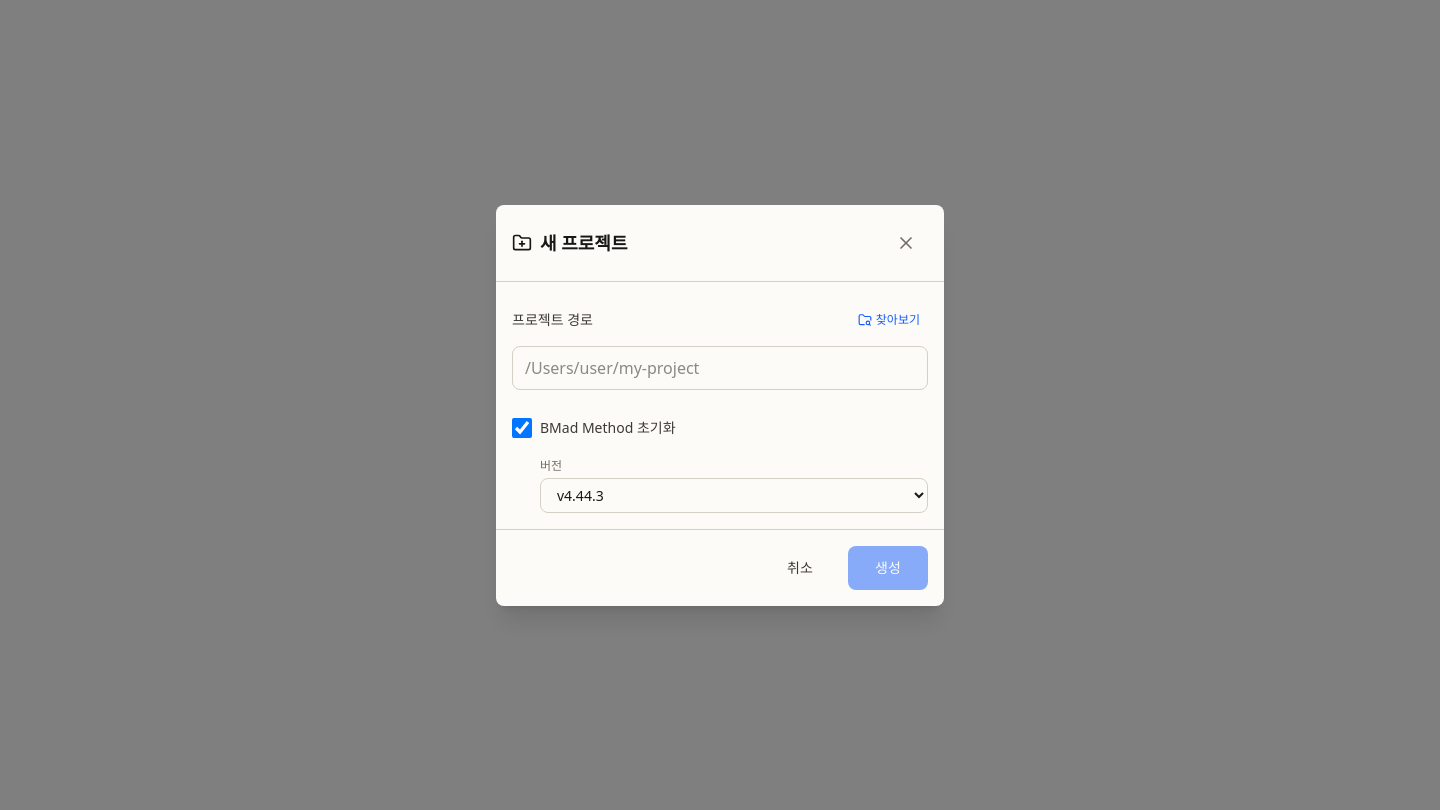
Test case: NewProjectDialog › Directory Browser Integration (Story 34.2) › fills the path input and runs existing validation when a path is selected (AC7)
What coordinates should you click on to do the following:
click the button with aria-label "디렉토리 찾아보기"
I would click on:
 (889, 320)
Its box is [850,298,928,342].
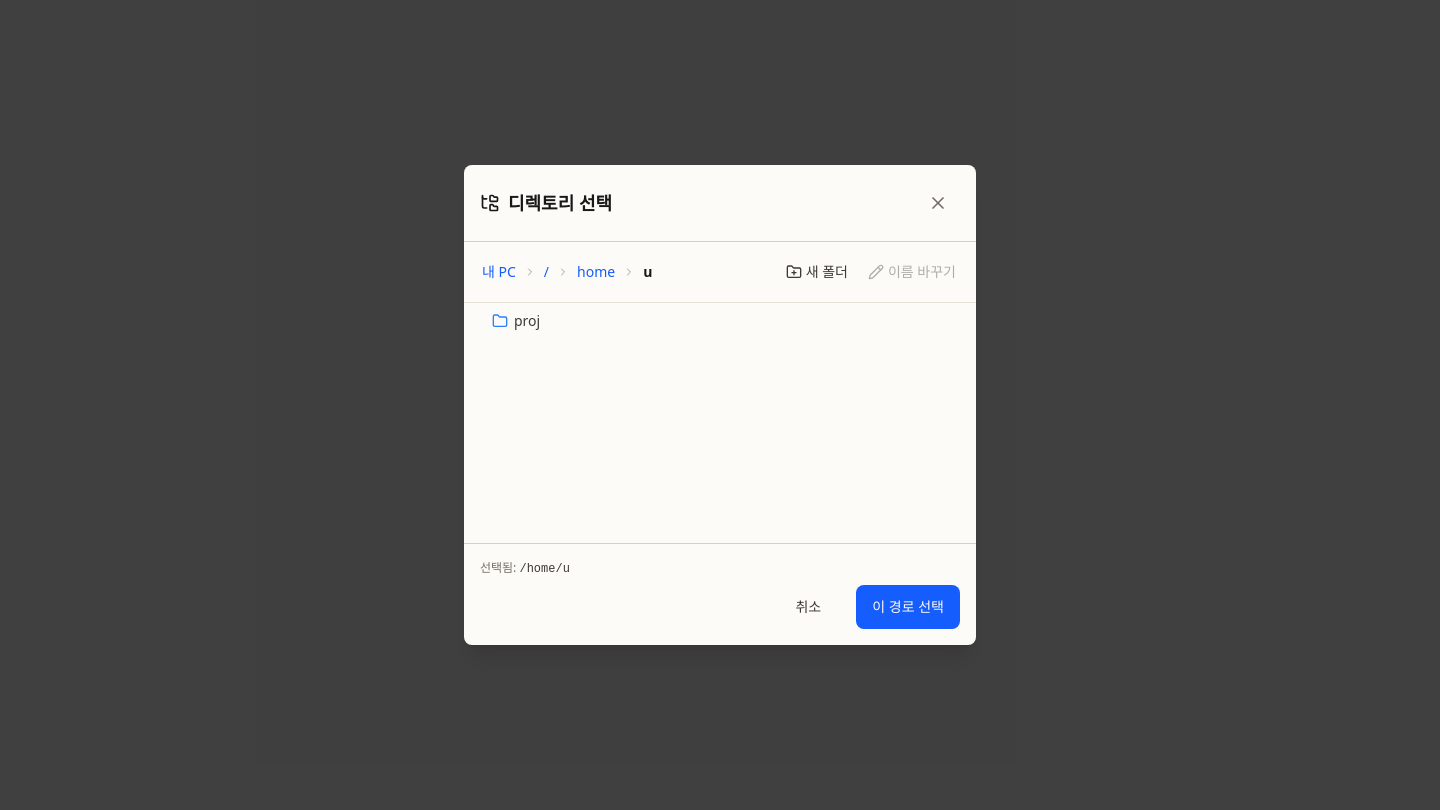
# Pick a folder in the browser tree, then confirm.
What coordinates should you click on to do the following:
click the text "proj"
I would click on:
 (527, 321)
Its box is [514,311,540,331].
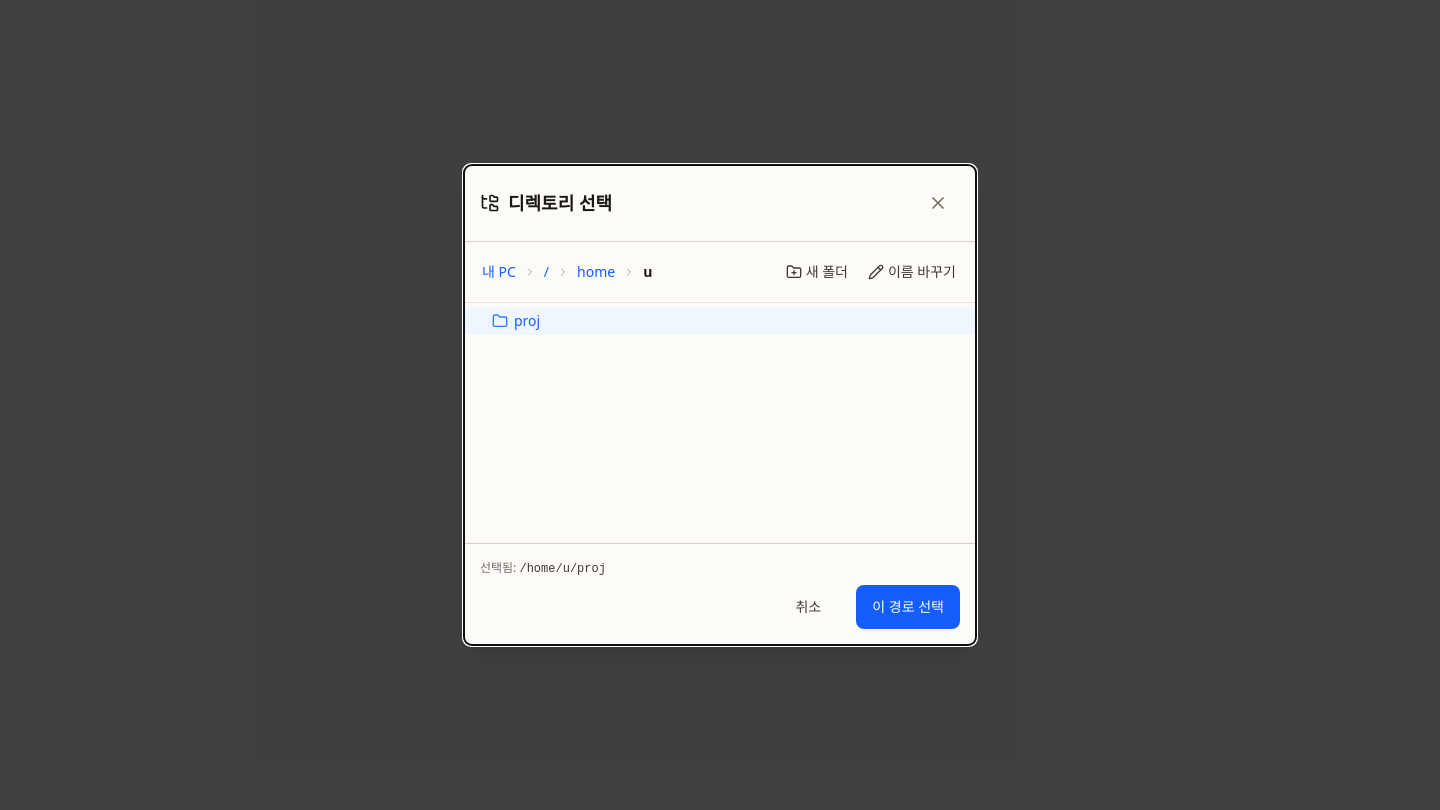
What coordinates should you click on to do the following:
click the button "이 경로 선택"
I would click on:
 (908, 607)
Its box is [856,585,960,629].
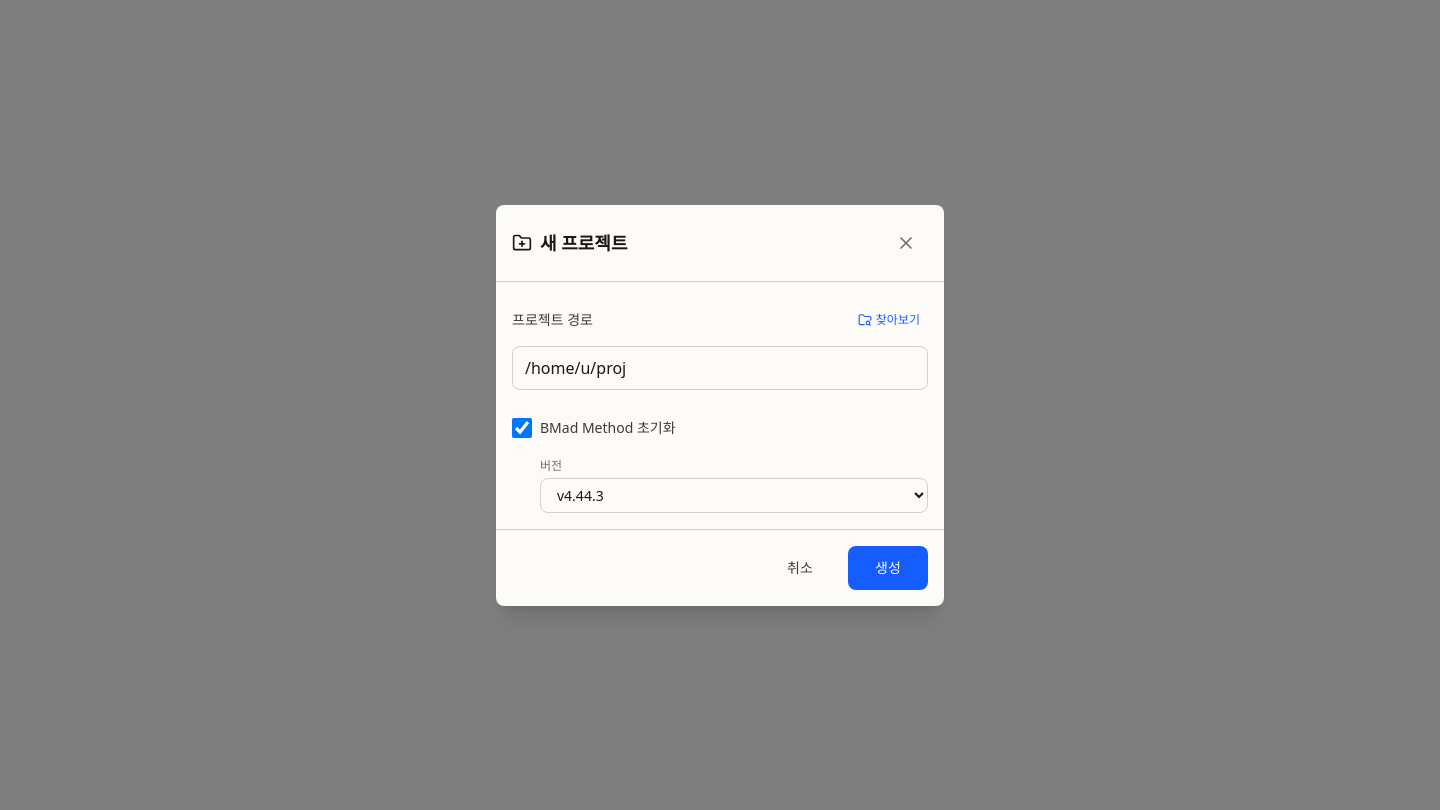
Check: the field labelled "프로젝트 경로" holds "/home/u/proj", box [512,346,928,390]
